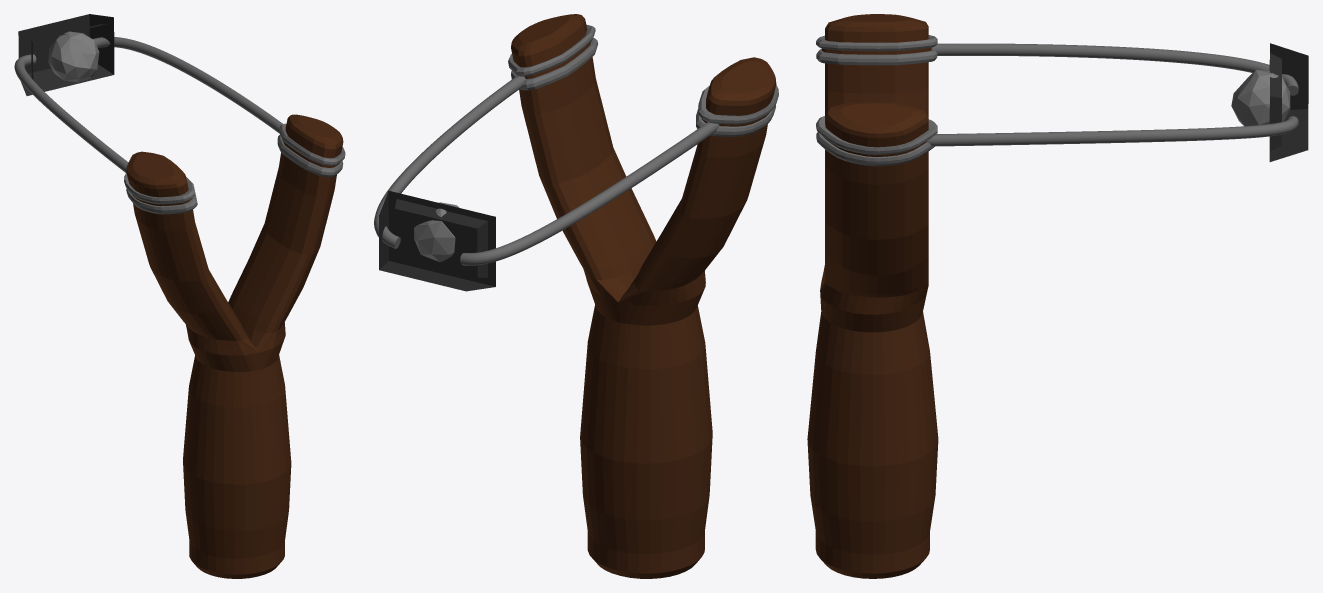
File: slingshot.fbx
3 renders of one model, left to right at view 1: azimuth 30°, elevation 25°; view 2: azimuth 150°, elevation 25°; view 3: azimuth 270°, elevation 25°, orthographic. The views are drawn at different scales.
Parts seen in each view (by area): view 1: slingshot, rock; view 2: slingshot, rock; view 3: slingshot, rock.
Part boxes in pixels (x1,y1,x2,y2): slingshot: (14,14,345,578); rock: (48,31,99,82); slingshot: (374,14,778,578); rock: (414,202,459,261); slingshot: (807,14,1308,578); rock: (1231,70,1290,126).
Size of the model in its own units: 68.54 by 134 by 122.
